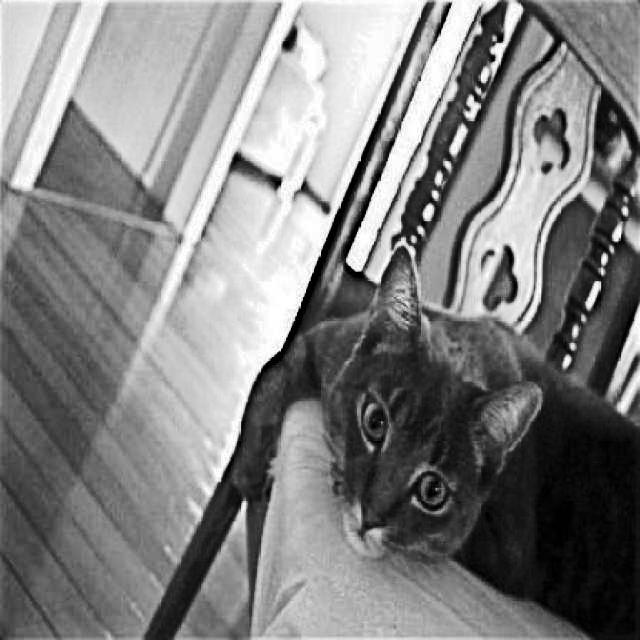Cat: (226, 237, 640, 640)
